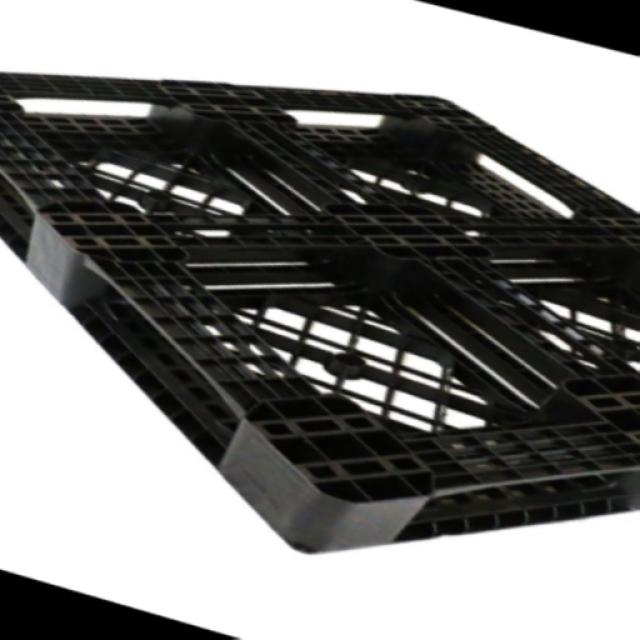non-igps: (0, 57, 640, 562)
